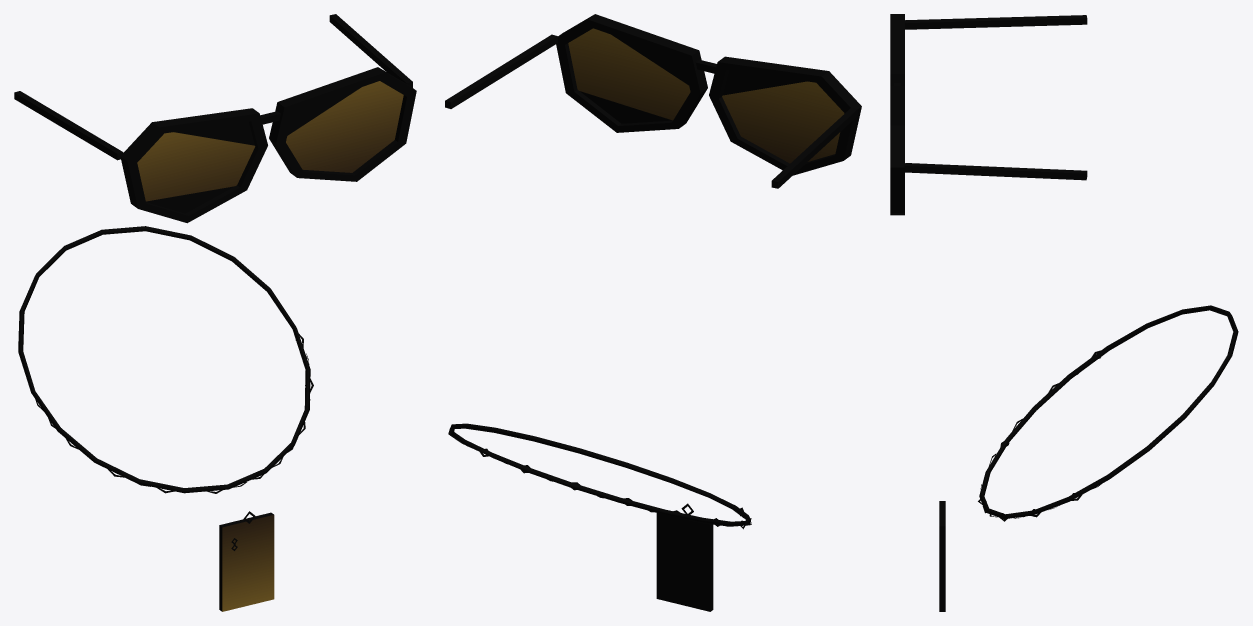
Rendered from shades_chain.glb.
3 views of the same model, side by side, from view 1: azimuth 30°, elevation 25°; view 2: azimuth 150°, elevation 25°; view 3: azimuth 270°, elevation 25° (orthographic). The views are drawn at different scales.
Parts seen in each view (by area): view 1: Designer Shades and Card Chain; view 2: Designer Shades and Card Chain; view 3: Designer Shades and Card Chain.
Boxes of the visible parts, <box> form: Designer Shades and Card Chain: <box>14,14,416,611</box>; Designer Shades and Card Chain: <box>445,14,861,611</box>; Designer Shades and Card Chain: <box>890,14,1238,611</box>.
Size of the model in its own units: 0.3104 by 0.4826 by 0.2877.
1 material, 1 textured.
